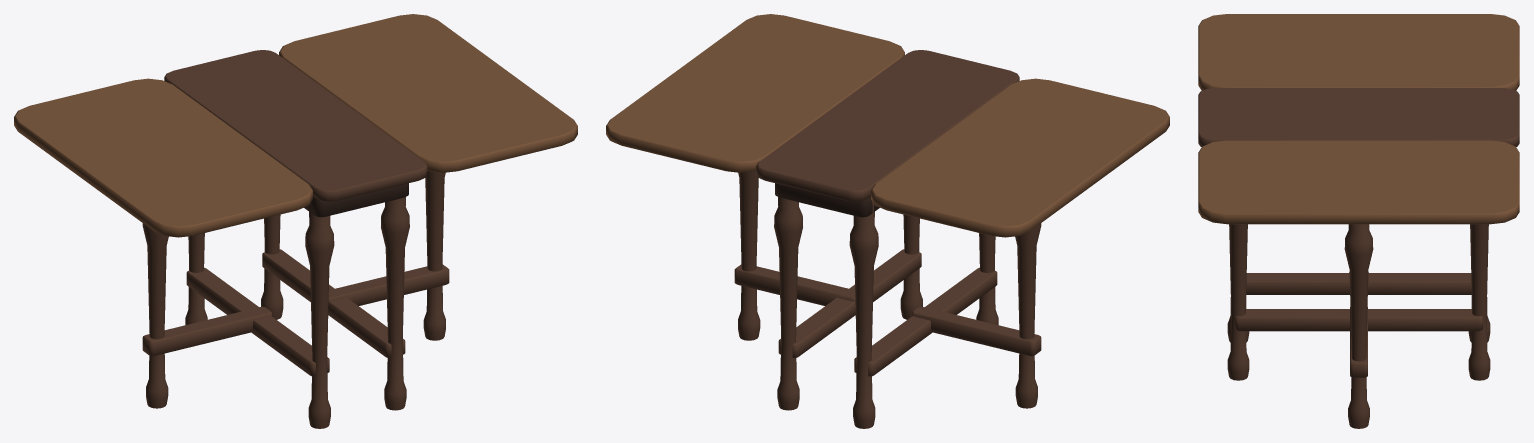
The model's file is rpg-mansion-gateleg-drop-leaf-01.glb.
3 views of the same model, side by side, from view 1: azimuth 30°, elevation 25°; view 2: azimuth 150°, elevation 25°; view 3: azimuth 270°, elevation 25° (orthographic). The views are drawn at different scales.
Visible parts, largest first — view 1: rpg-mansion-gateleg-drop-leaf-01; view 2: rpg-mansion-gateleg-drop-leaf-01; view 3: rpg-mansion-gateleg-drop-leaf-01.
Part boxes in pixels (<box>): rpg-mansion-gateleg-drop-leaf-01: <box>14,14,577,428</box>; rpg-mansion-gateleg-drop-leaf-01: <box>606,14,1169,428</box>; rpg-mansion-gateleg-drop-leaf-01: <box>1198,14,1519,428</box>.
Bounding box in the file's own units: 1.3 × 0.74 × 0.88.
